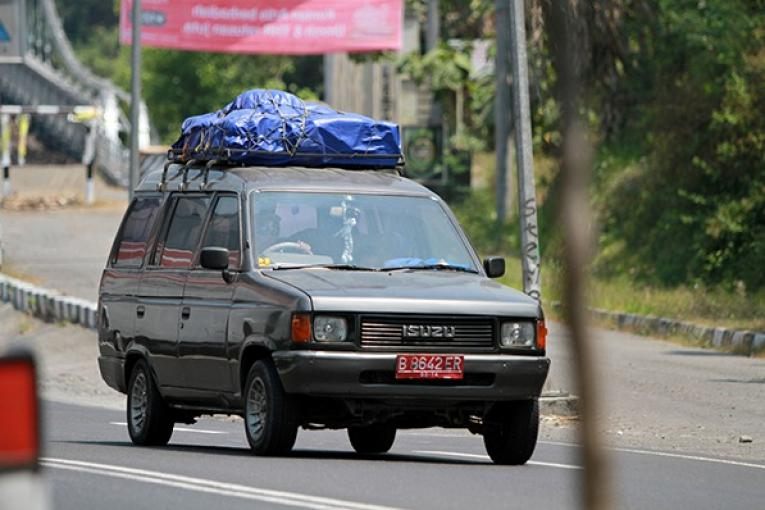plate: (396, 351, 465, 380)
